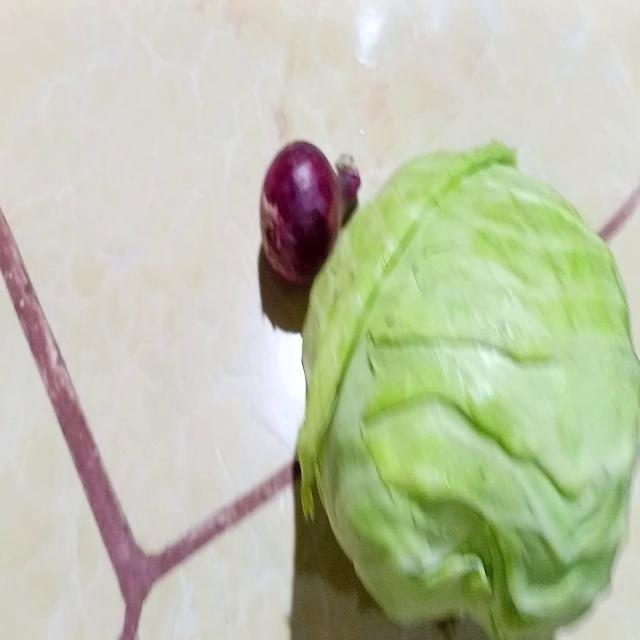cabbage: (296, 142, 640, 640)
onion: (259, 140, 360, 278)
